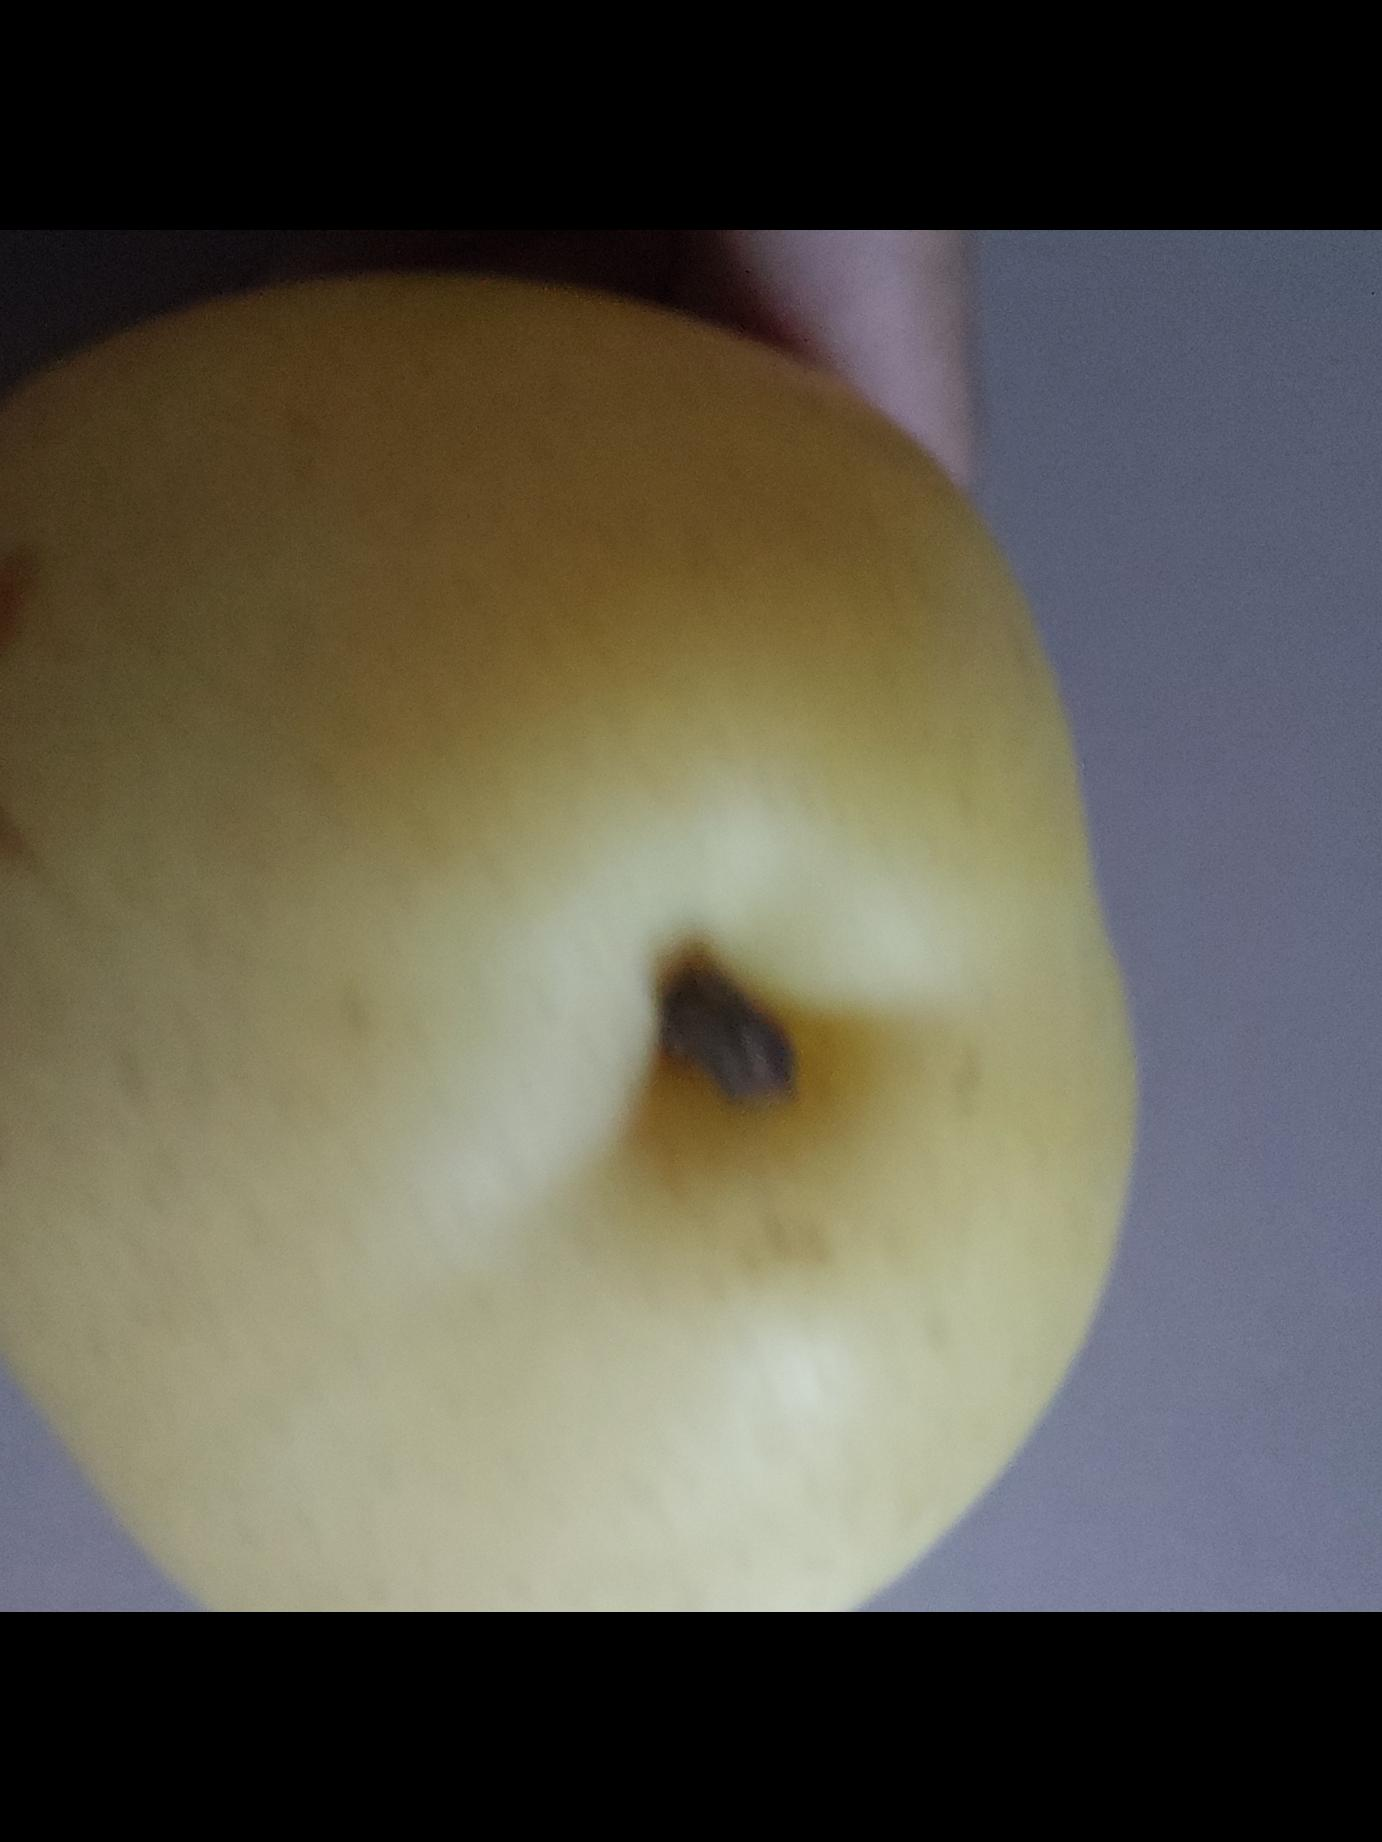Good Pear: (0, 271, 1132, 1613)
